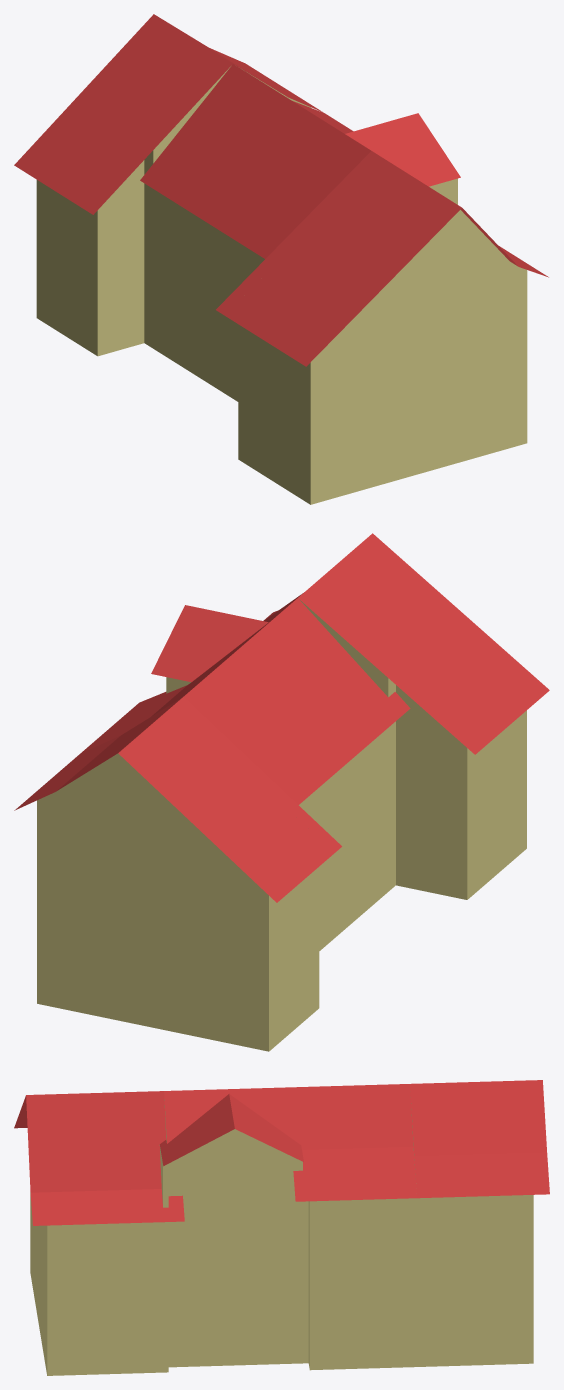
3 renders of one model, top to bottom at view 1: azimuth 30°, elevation 25°; view 2: azimuth 150°, elevation 25°; view 3: azimuth 270°, elevation 25°, orthographic. The views are drawn at different scales.
Size of the model in its own units: 19.06 by 34.95 by 17.7.
